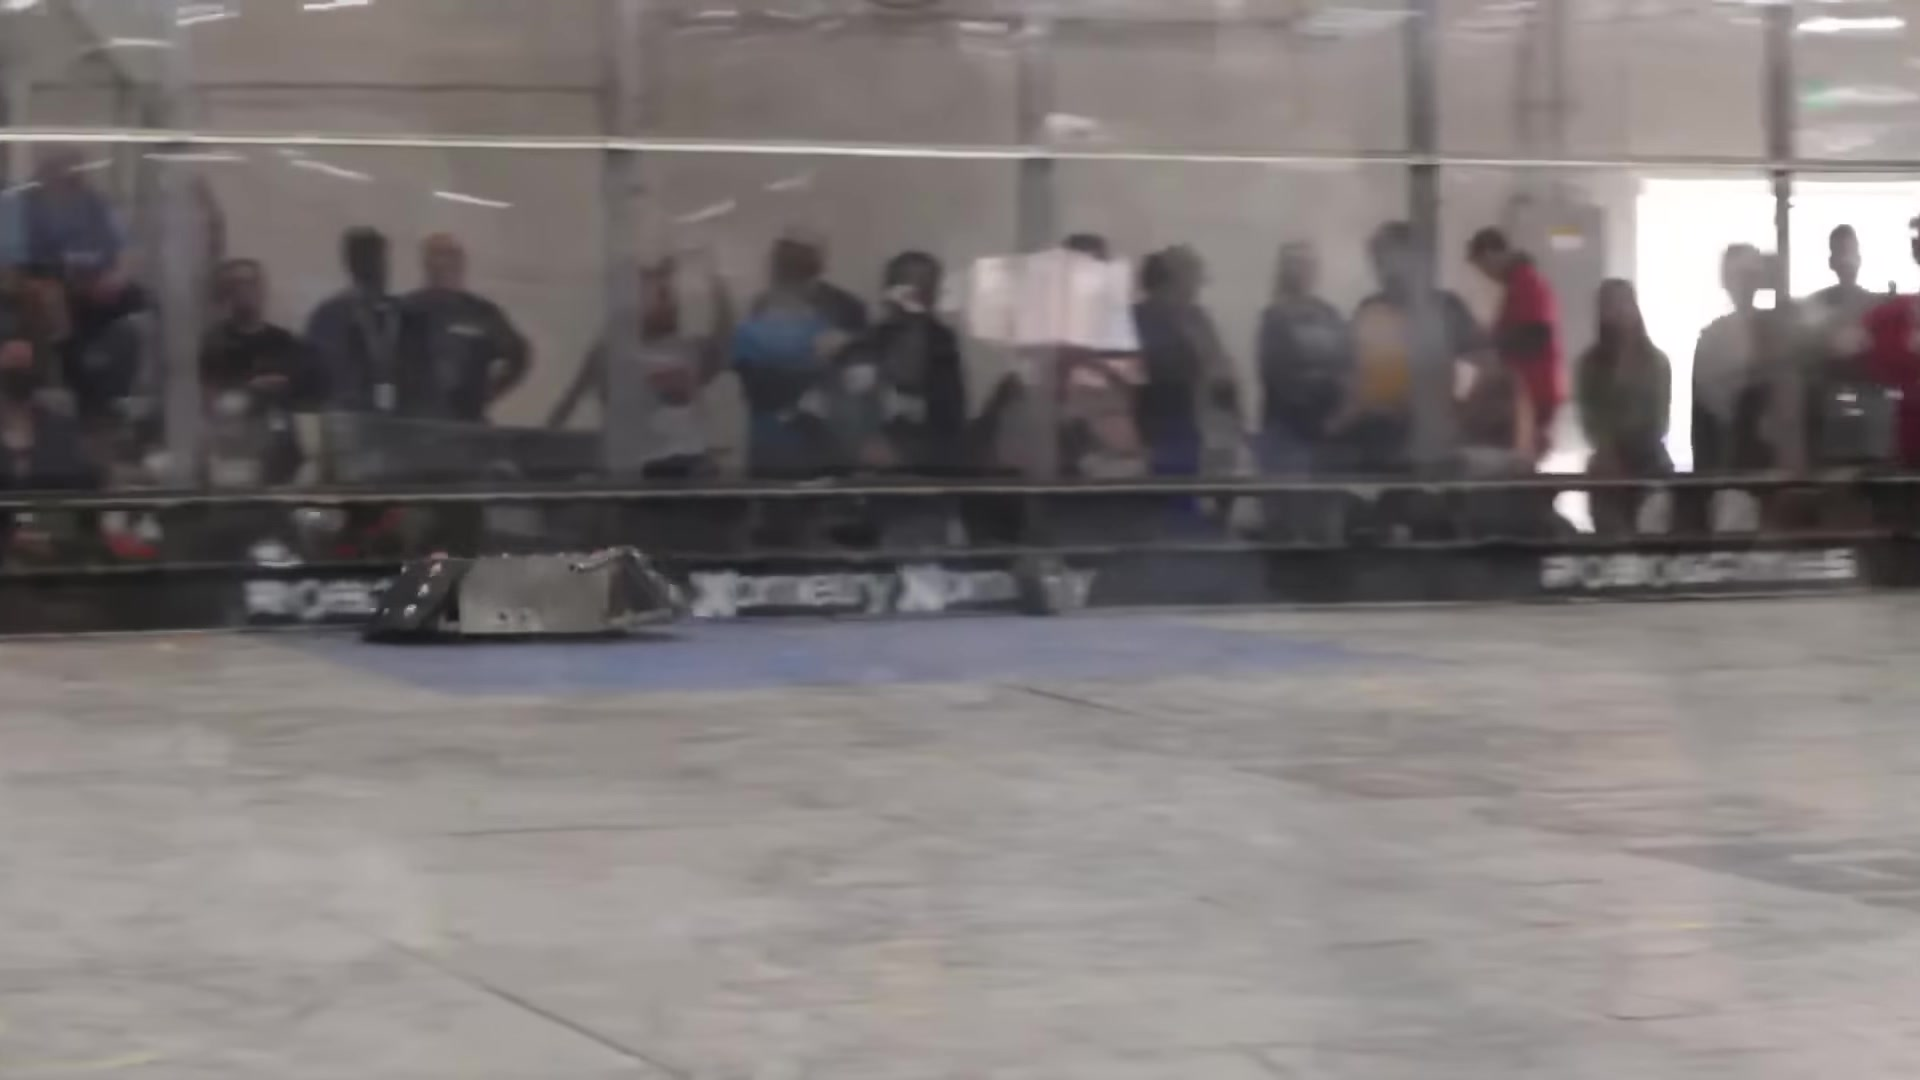combatbot: (371, 554, 696, 638)
